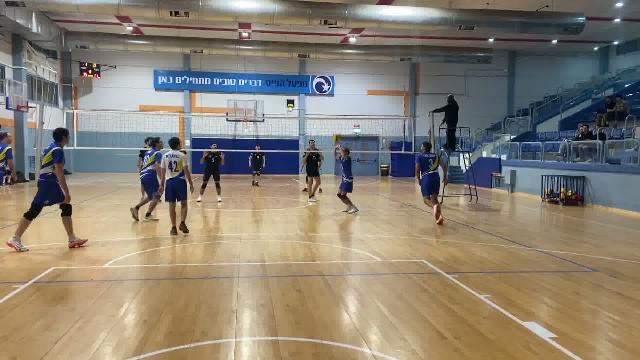ball: (331, 131, 342, 143)
